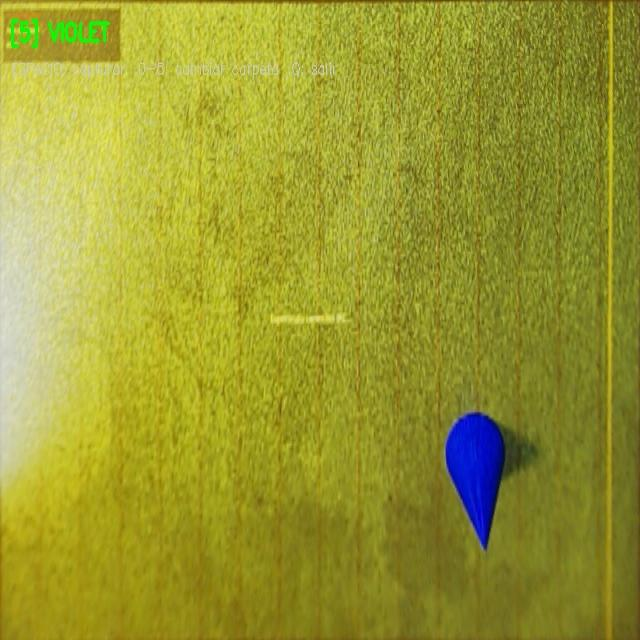violet: (446, 413, 503, 549)
